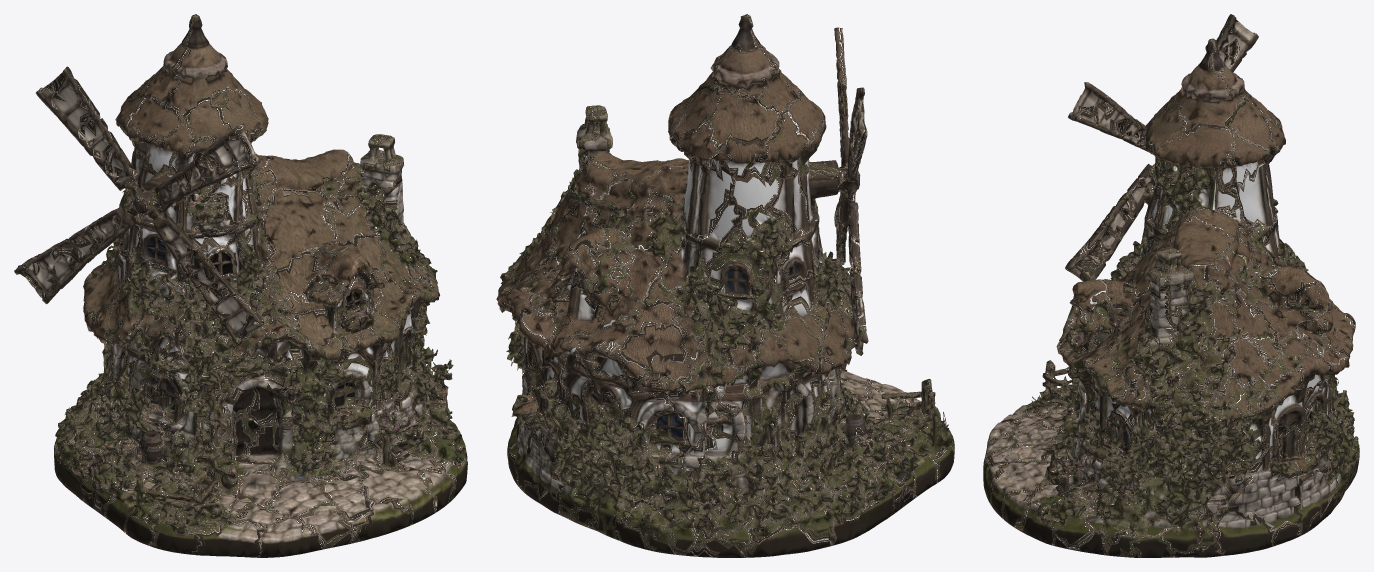
File: wind-house.glb
The picture shows the model from 3 angles, left to right: view 1: azimuth 30°, elevation 25°; view 2: azimuth 150°, elevation 25°; view 3: azimuth 270°, elevation 25°; orthographic projection. The views are drawn at different scales.
Visible parts, largest first — view 1: mesh_node; view 2: mesh_node; view 3: mesh_node.
Part boxes in pixels (x1,y1,x2,y2): mesh_node: (14, 14, 467, 557); mesh_node: (496, 14, 954, 557); mesh_node: (983, 14, 1359, 557).
Size of the model in its own units: 1.66 by 1.9 by 1.54.
1 material, 1 textured.
